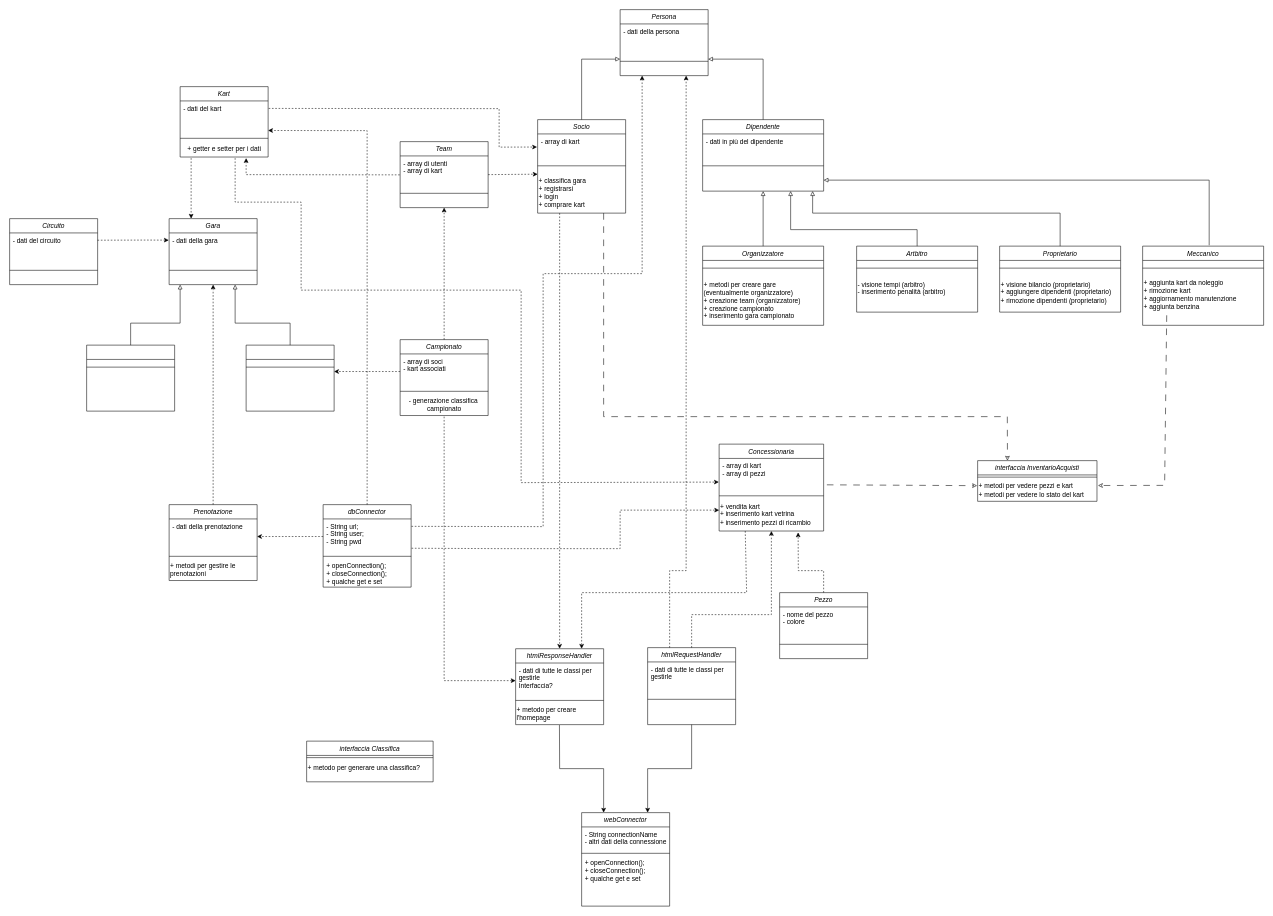
This 1273x916 diagram has some shape labels left out. Each missing label, with the centre of its shape:
"Libera" belongs at [130,378].
"Secca" belongs at [290,378].
